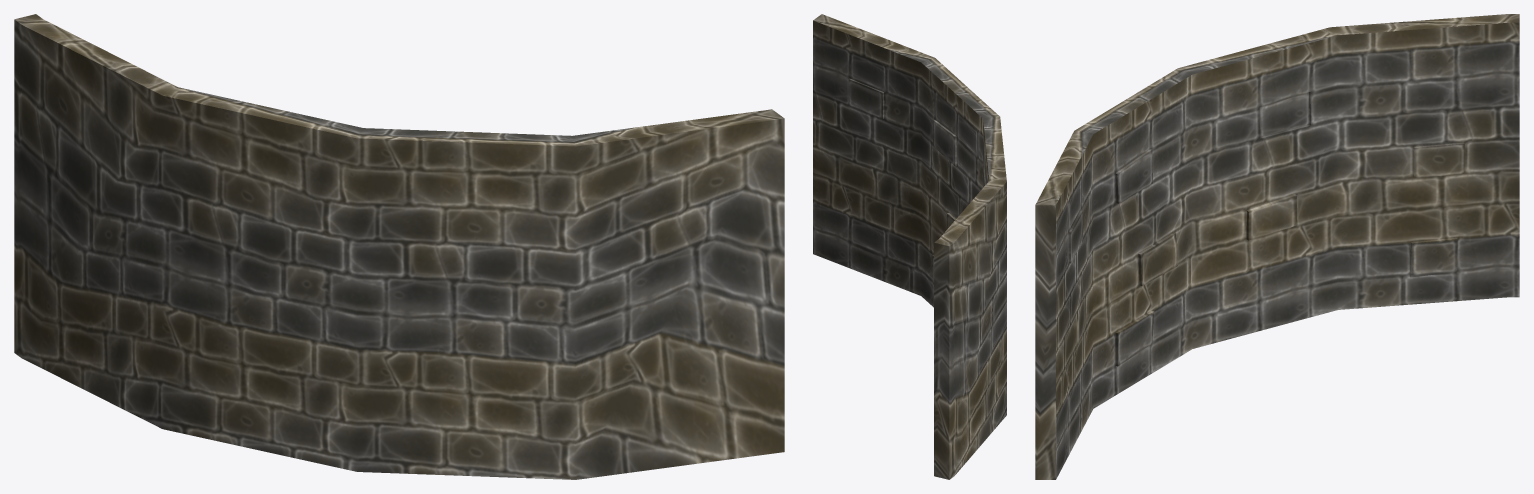
The model's file is corner_wall.fbx.
3 views of the same model, side by side, from view 1: azimuth 30°, elevation 25°; view 2: azimuth 150°, elevation 25°; view 3: azimuth 270°, elevation 25° (orthographic). The views are drawn at different scales.
Parts seen in each view (by area): view 1: corner_walls; view 2: corner_walls; view 3: corner_walls.
Boxes of the visible parts, x1,y1,x2,y2 form: corner_walls: [14, 14, 784, 479]; corner_walls: [813, 14, 1006, 479]; corner_walls: [1035, 14, 1519, 479].
Bounding box in the file's own units: 448 × 300 × 480.
